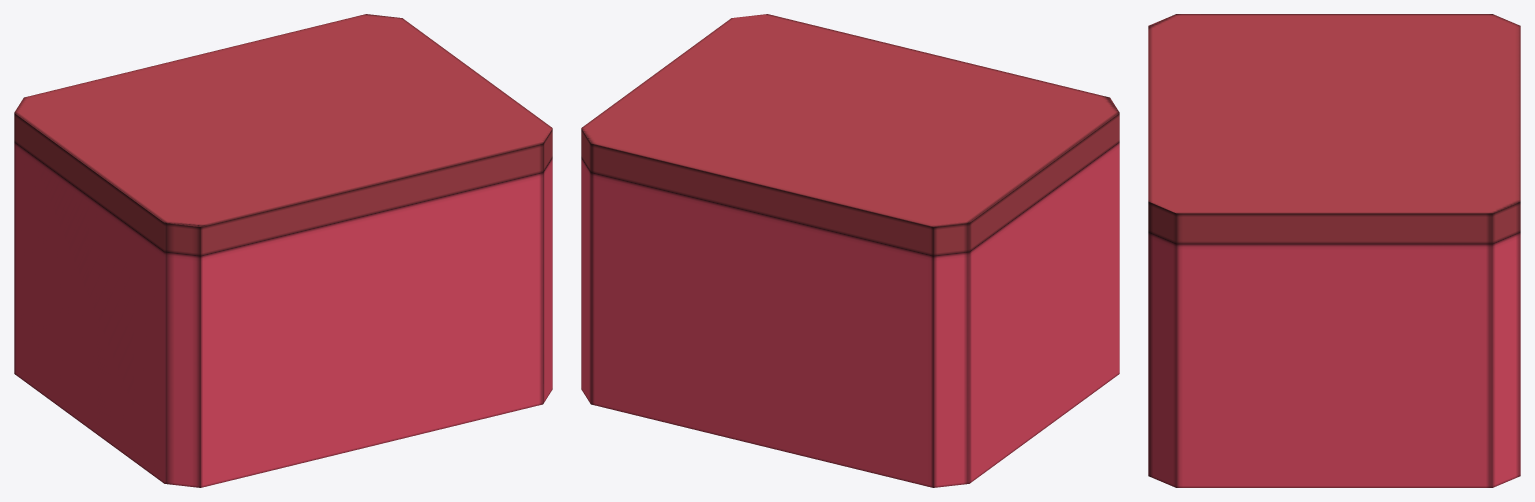
The model's file is case4.fbx.
The picture shows the model from 3 angles, left to right: view 1: azimuth 30°, elevation 25°; view 2: azimuth 150°, elevation 25°; view 3: azimuth 270°, elevation 25°; orthographic projection. The views are drawn at different scales.
Parts seen in each view (by area): view 1: polySurface1559; view 2: polySurface1559; view 3: polySurface1559.
Part boxes in pixels (left/top/right/bottom): polySurface1559: left=14, top=14, right=552, bottom=487; polySurface1559: left=581, top=14, right=1119, bottom=487; polySurface1559: left=1148, top=14, right=1520, bottom=487.
Size of the model in its own units: 0.3513 by 0.2256 by 0.277.
